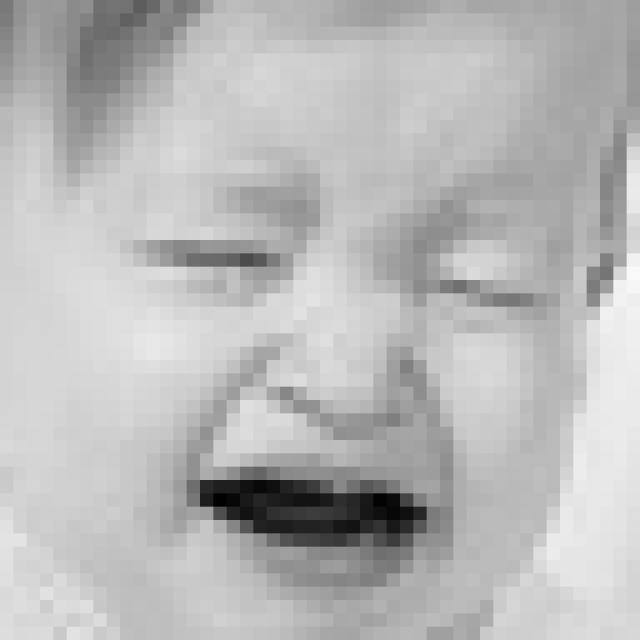sad: (124, 149, 557, 600)
